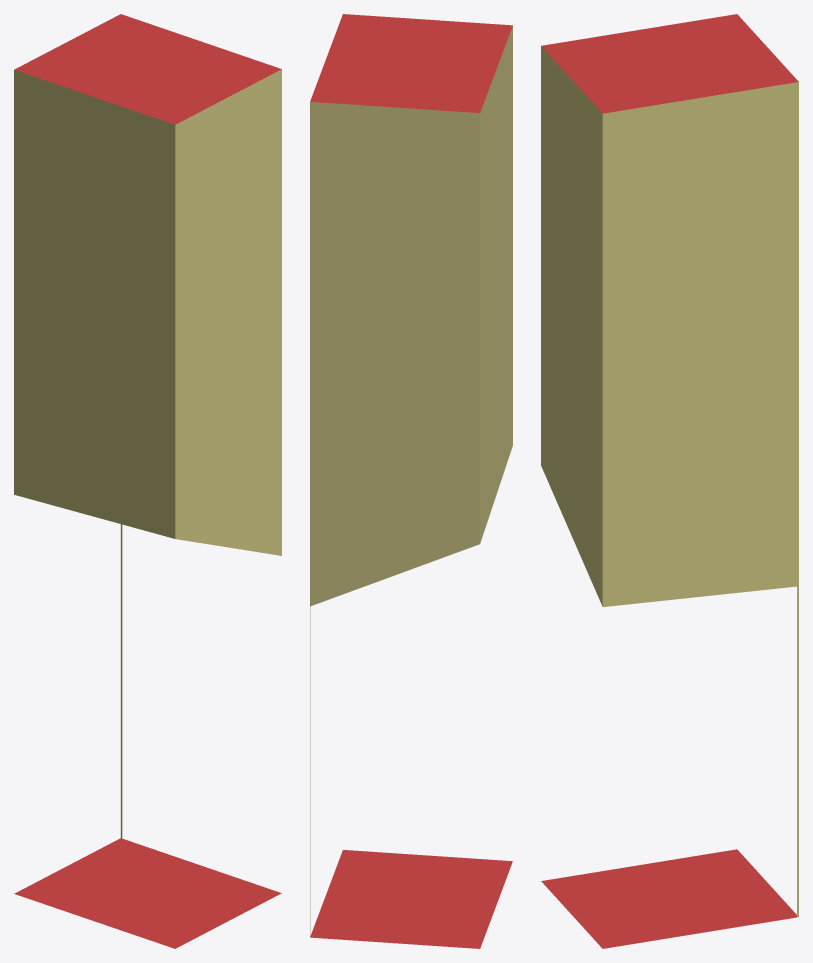
The picture shows the model from 3 angles, left to right: view 1: azimuth 30°, elevation 25°; view 2: azimuth 150°, elevation 25°; view 3: azimuth 270°, elevation 25°; orthographic projection.
Bounding box in the file's own units: 2.79 × 3.05 × 10.91.
